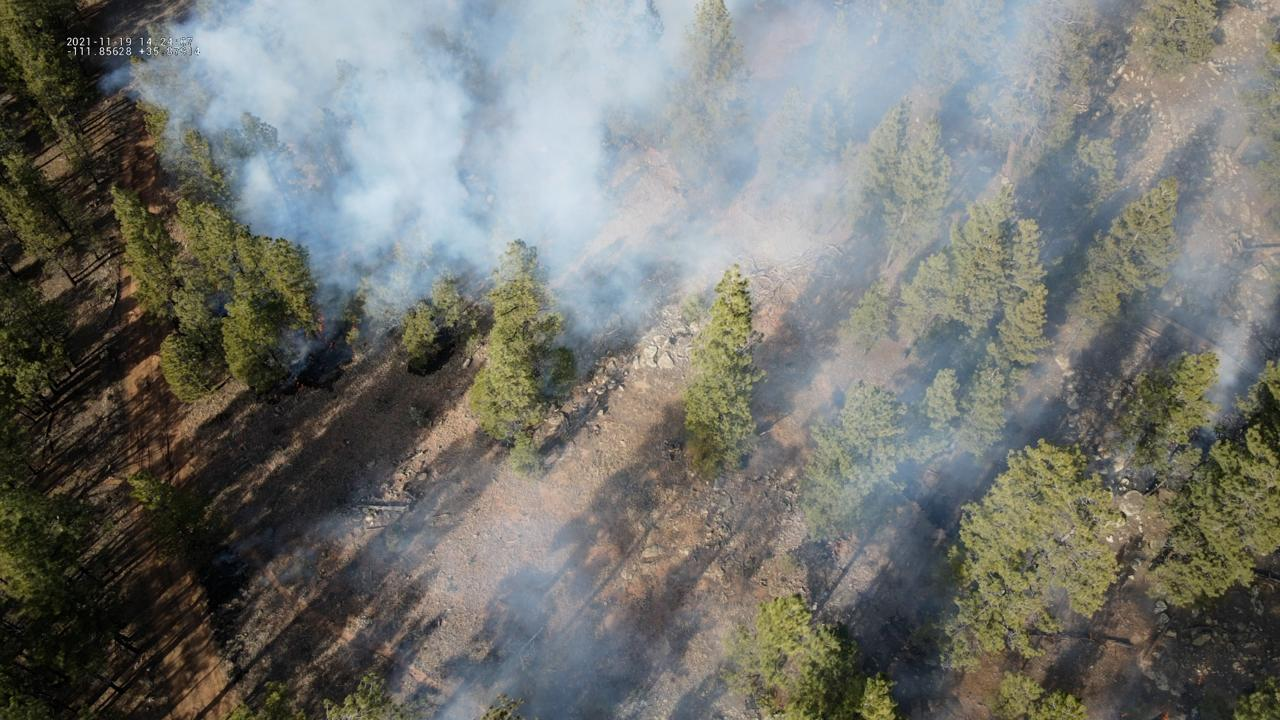fire: (316, 315, 327, 333), (327, 339, 338, 353), (1158, 710, 1172, 720), (294, 381, 304, 391), (350, 321, 356, 334)
smoke: (132, 0, 1280, 720), (208, 512, 354, 571)
